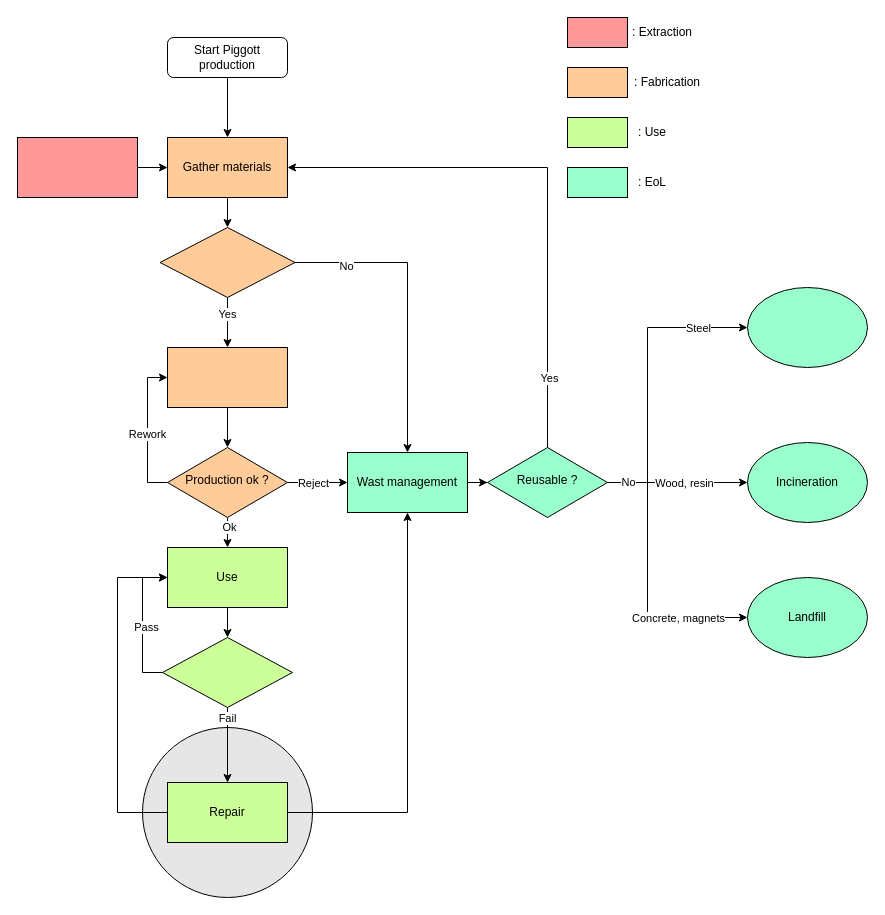
Image size: 885x915. Some labels were removed from this diagram. Each missing label, with the box of its shape:
Maintenance inspection: (162, 636, 292, 708)
Materials ok ?: (159, 226, 295, 298)
Production: (166, 346, 288, 408)
Purchase new materials: (16, 136, 138, 198)
Recycling: (746, 286, 868, 368)
